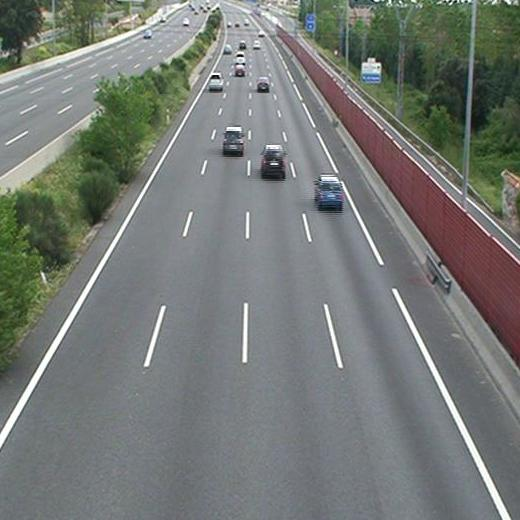car: (316, 177, 342, 206), (262, 145, 284, 173), (224, 128, 243, 152), (208, 74, 222, 90), (257, 77, 269, 90), (234, 65, 245, 76), (235, 53, 246, 64), (223, 45, 232, 55), (253, 40, 261, 50), (240, 40, 246, 50)
